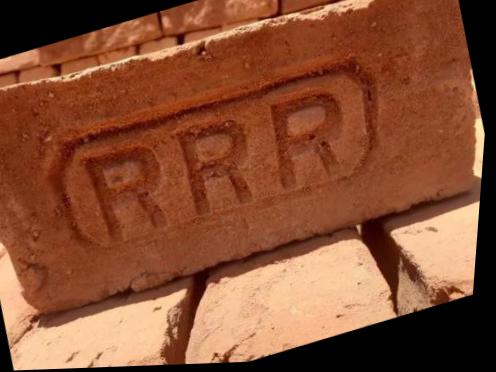brick: (0, 0, 496, 332)
